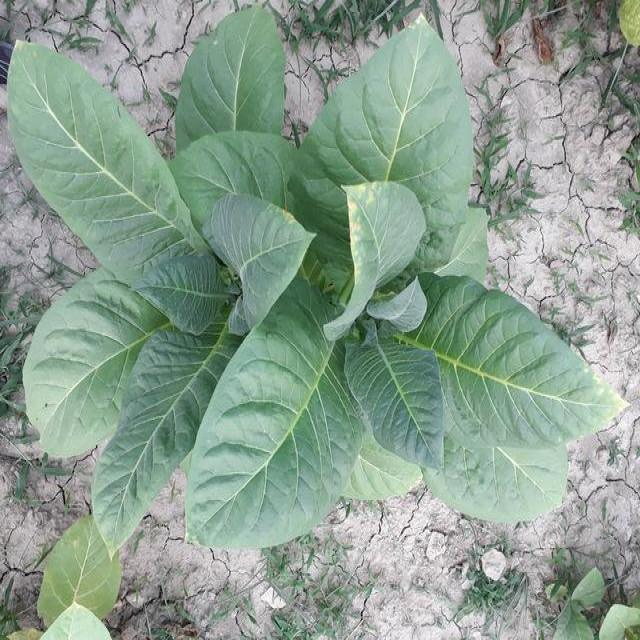crop: (11, 26, 604, 521), (29, 533, 138, 640)
